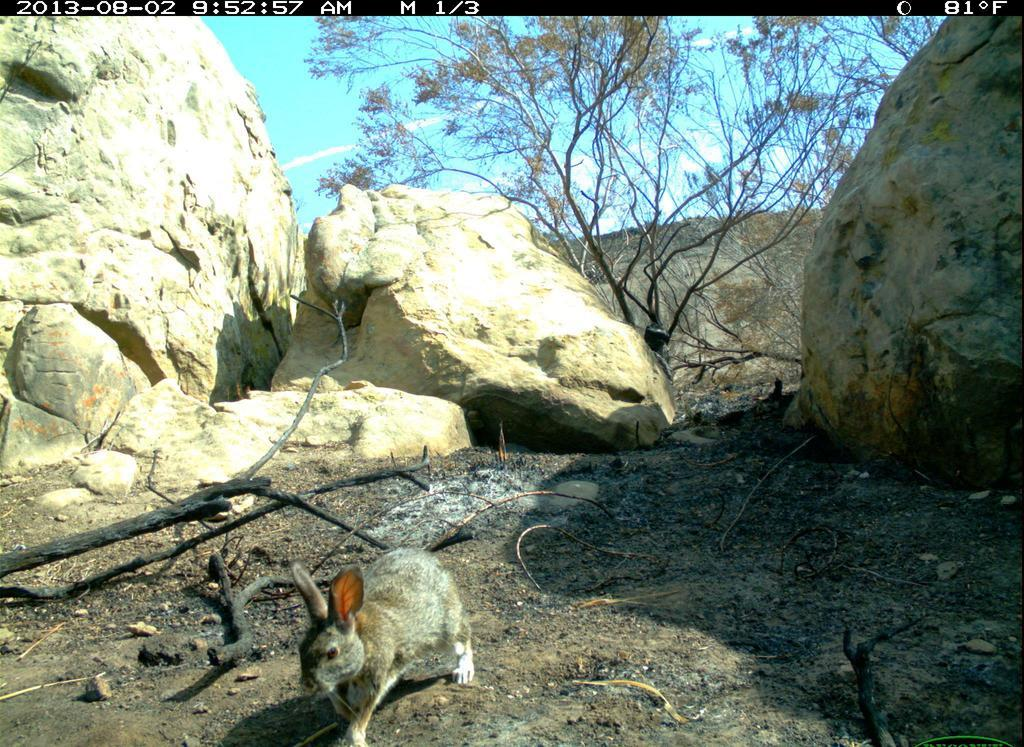rabbit: (296, 546, 475, 747)
